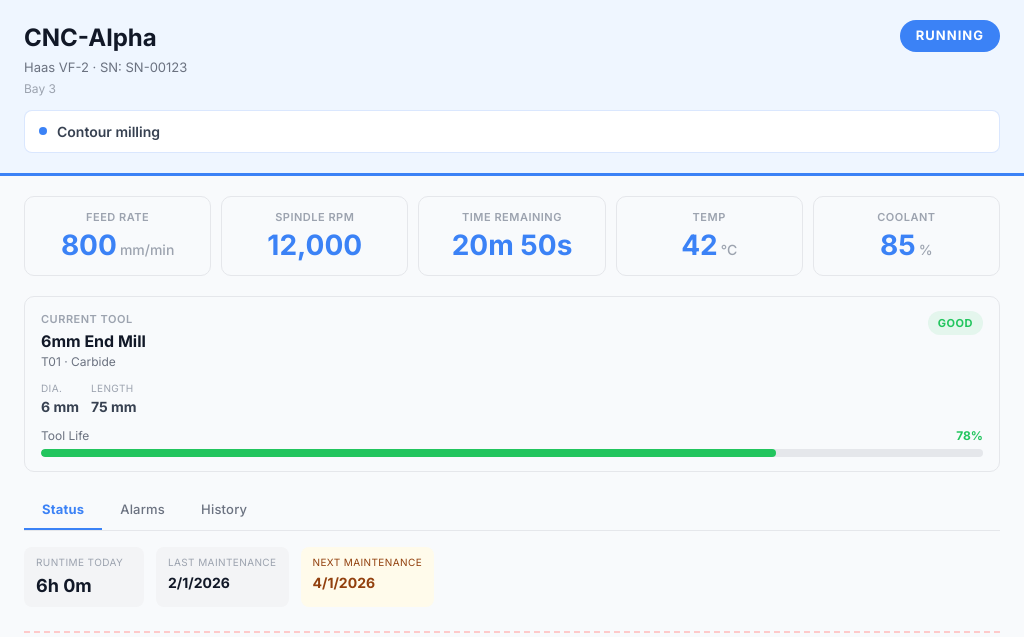
Test: MachineMonitor › switches to alarms tab
Click the button with test id "tab-alarms": (143, 511) [102,492,183,530]
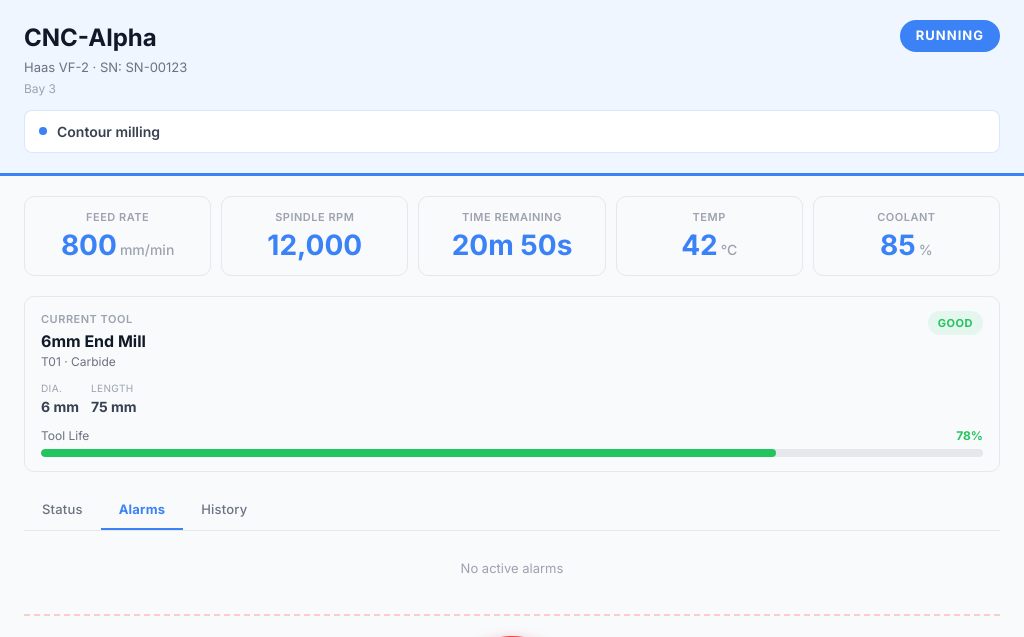
Check: the element with test id "tab-content-alarms" is shown, box [461,560,563,576]
